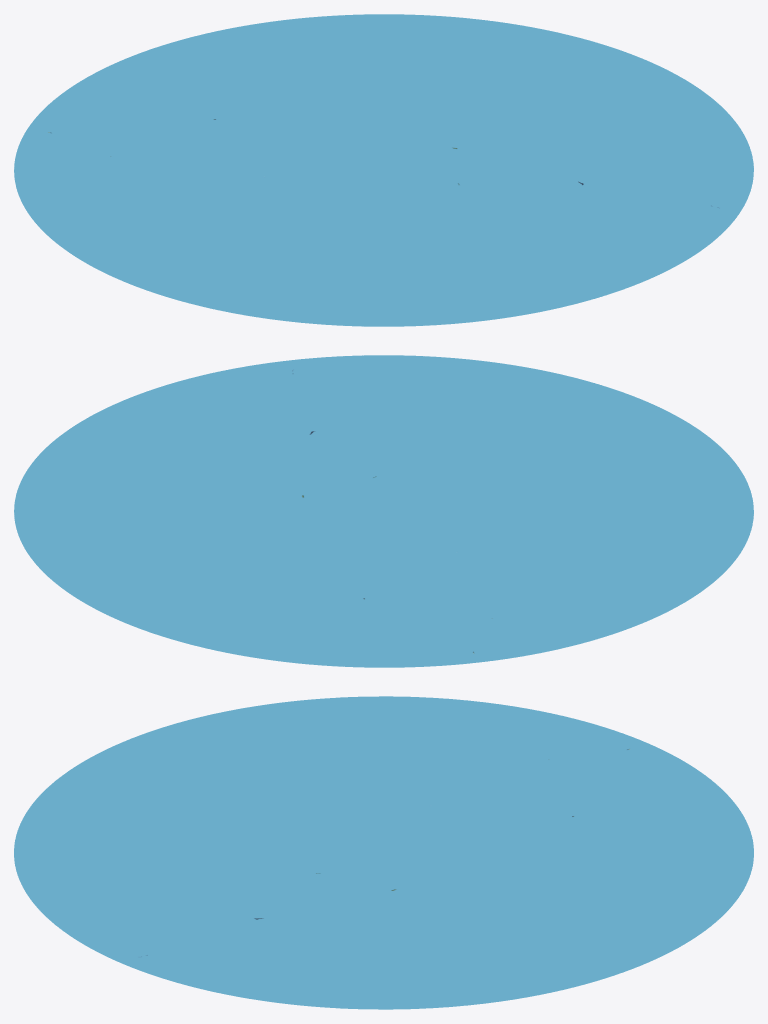
File: TUV-previa-terrain.glb
3 renders of one model, top to bottom at view 1: azimuth 30°, elevation 25°; view 2: azimuth 150°, elevation 25°; view 3: azimuth 270°, elevation 25°, orthographic.
Parts seen in each view (by area): view 1: Tuvalu; view 2: Tuvalu; view 3: Tuvalu.
Boxes of the visible parts, x1,y1,x2,y2 form: Tuvalu: (14,14,753,326); Tuvalu: (14,355,753,667); Tuvalu: (14,696,753,1009).
Size of the model in its own units: 2.64 by 0.000671 by 2.64.
Materials: 1 (1 with a texture image).
